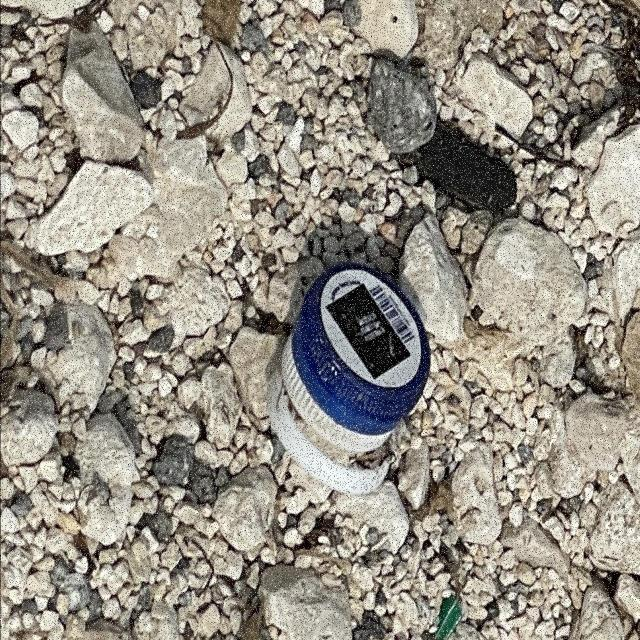plastic_waste: (266, 265, 429, 498)
